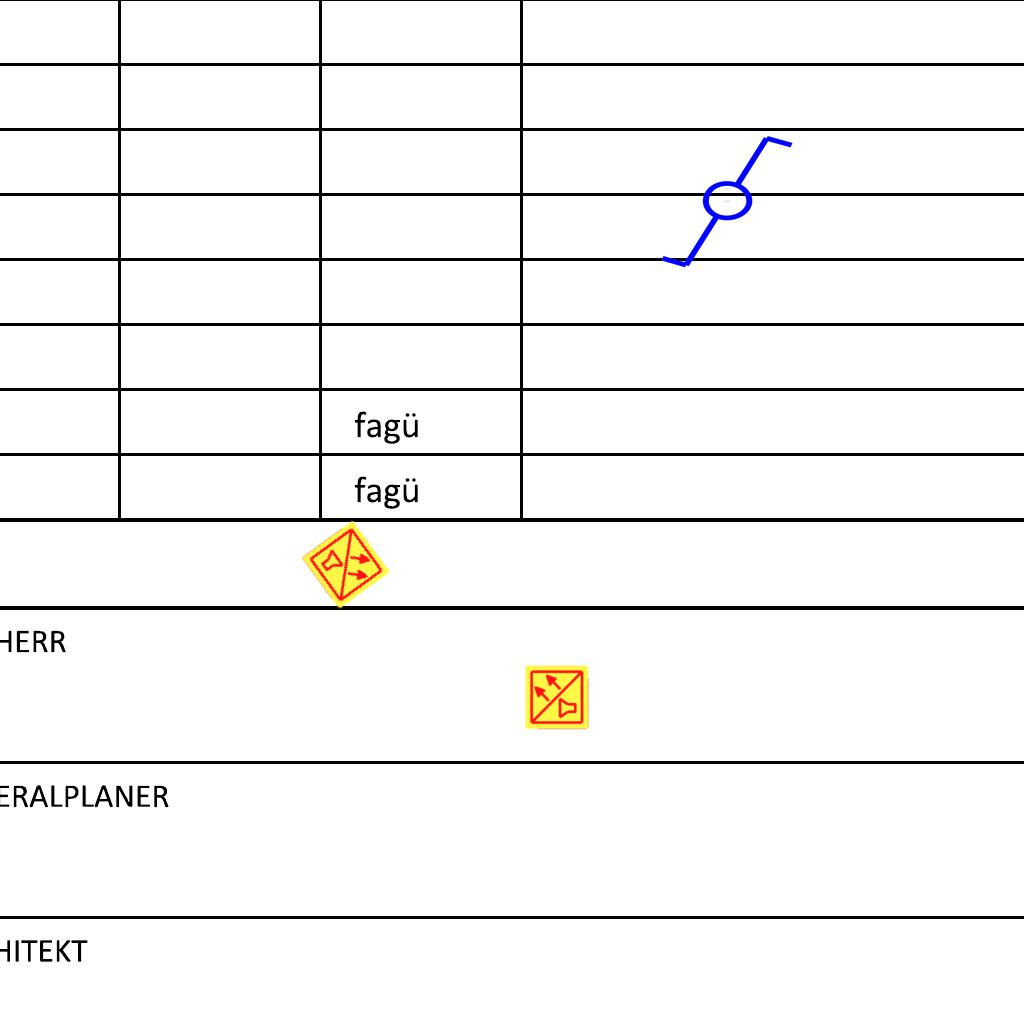OKW_Multisensormelder_(Kombination_optischer_Rauch-Kahlenmonoxid_Waerme-Melder): (299, 518, 393, 612), (524, 664, 590, 730)
Wechselschalter: (657, 131, 814, 275)
